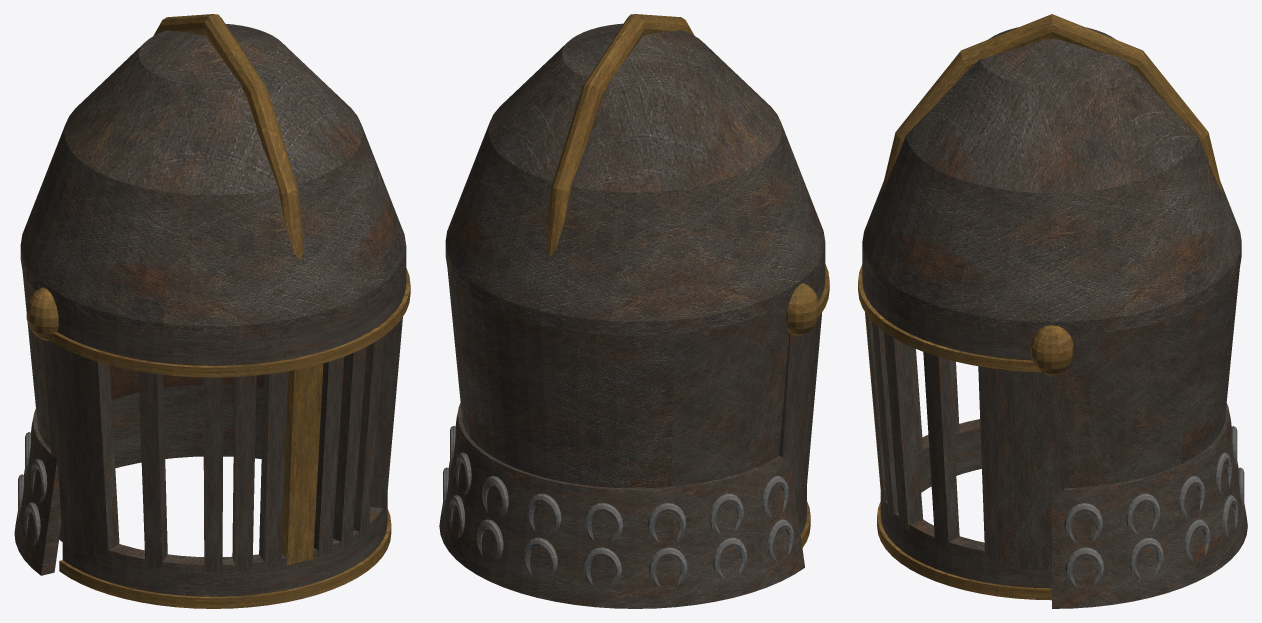
File: medium.obj
3 renders of one model, left to right at view 1: azimuth 30°, elevation 25°; view 2: azimuth 150°, elevation 25°; view 3: azimuth 270°, elevation 25°, orthographic.
Parts seen in each view (by area): view 1: hollow_crown, brow, neck_curtain, lower_visor, left_cheek, visor_bar_3, crown_ridge, visor_bar_0, brow_trim, visor_slat_1, visor_bar_1, jaw_trim (+9 smaller); view 2: hollow_crown, rear_shell, neck_curtain, crown_ridge, left_cheek, hinge_-1, visor_bar_0, mail_loop_0_5, mail_loop_0_6, mail_loop_1_6, mail_loop_1_5, mail_loop_1_7 (+7 smaller); view 3: hollow_crown, rear_shell, neck_curtain, right_cheek, crown_ridge, lower_visor, brow, visor_bar_5, visor_bar_4, visor_bar_6, brow_trim, jaw_trim (+10 smaller).
Part boxes in pixels (box(x1,y1,x2,y2)): hollow_crown: box(20, 23, 406, 339); brow: box(53, 252, 406, 365); neck_curtain: box(14, 384, 263, 575); lower_visor: box(62, 493, 387, 596); left_cheek: box(40, 288, 94, 559); visor_bar_3: box(282, 363, 323, 565); crown_ridge: box(153, 14, 303, 260); visor_bar_0: box(82, 357, 119, 557); brow_trim: box(49, 268, 410, 377); visor_slat_1: box(259, 371, 288, 568); visor_bar_1: box(138, 371, 167, 568); jaw_trim: box(59, 509, 391, 608); hollow_crown: box(445, 23, 825, 335); rear_shell: box(446, 253, 792, 488); neck_curtain: box(439, 403, 804, 608); crown_ridge: box(546, 14, 694, 256); left_cheek: box(779, 267, 820, 519); hinge_-1: box(786, 283, 819, 335); visor_bar_0: box(803, 313, 821, 505); mail_loop_0_5: box(583, 547, 621, 587); mail_loop_0_6: box(649, 547, 687, 587); mail_loop_1_6: box(647, 503, 686, 542); mail_loop_1_5: box(584, 503, 622, 542); mail_loop_1_7: box(709, 493, 743, 534); hollow_crown: box(862, 27, 1241, 335); rear_shell: box(1064, 253, 1241, 488); neck_curtain: box(1052, 403, 1247, 608); right_cheek: box(996, 325, 1065, 570); crown_ridge: box(880, 14, 1223, 194); lower_visor: box(880, 419, 1051, 588); brow: box(862, 250, 1040, 360); visor_bar_5: box(923, 352, 959, 549); visor_bar_4: box(884, 331, 923, 530); visor_bar_6: box(978, 366, 1001, 560); brow_trim: box(858, 264, 1040, 372); jaw_trim: box(877, 502, 1051, 600).
Size of the model in its own units: 82.92 by 112 by 77.34.
Materials: 4 (4 with a texture image).
